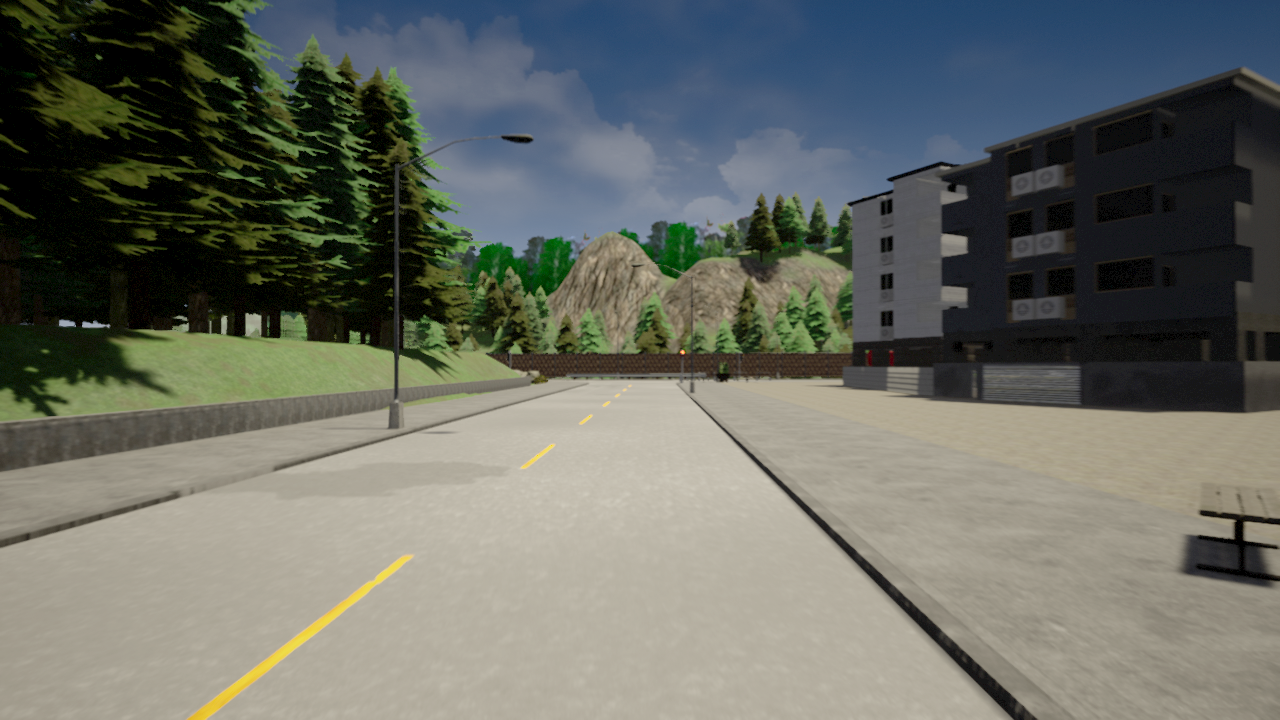red: (679, 348, 686, 362)
